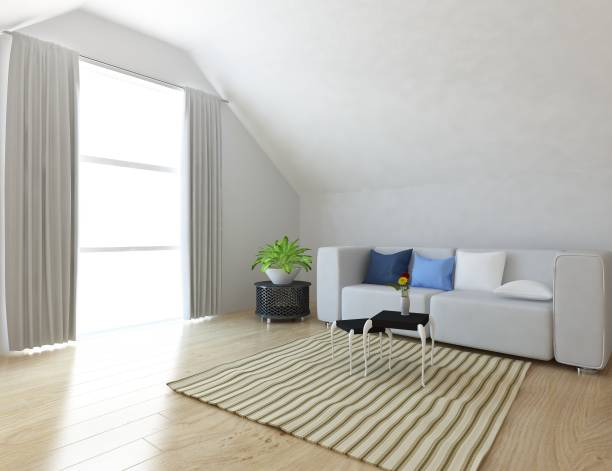flower vase: (392, 266, 415, 317)
small plant: (248, 233, 312, 283)
sofa: (312, 242, 612, 376)
table: (325, 311, 435, 389)
